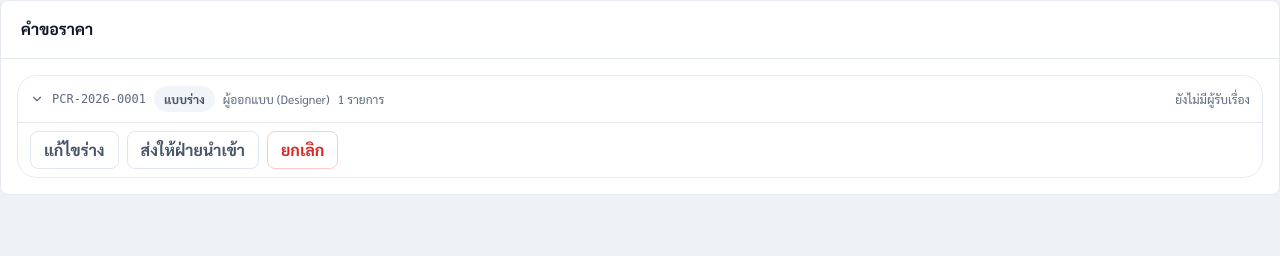
Test: PricingRequestPanel › shows the server error message when submitting to Import fails, instead of failing silently
The image size is (1280, 256).
Click the button "ส่งให้ฝ่ายนำเข้า": (193, 150) x1=126 y1=131 x2=259 y2=169
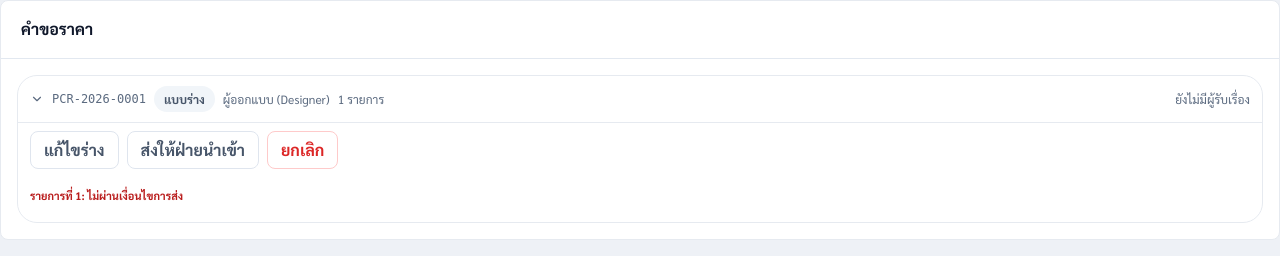
Check: the message reads "รายการที่ 1: ไม่ผ่านเงื่อนไขการส่ง", box x1=30 y1=188 x2=183 y2=203
